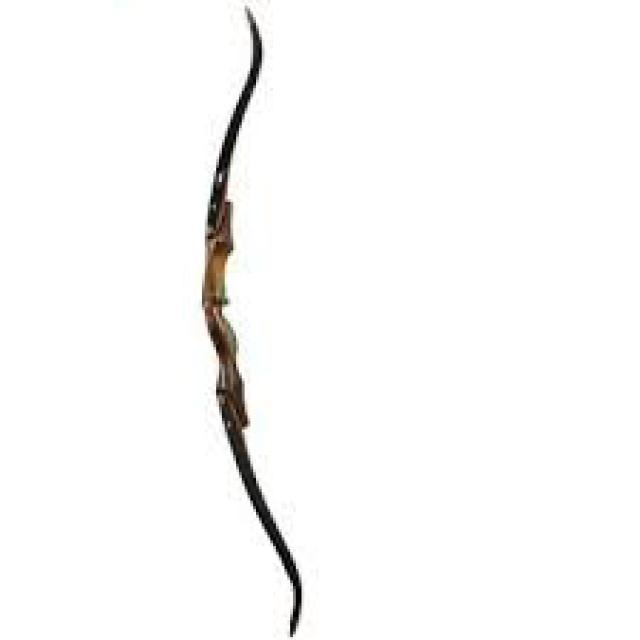X-Bow: (194, 3, 312, 634)
